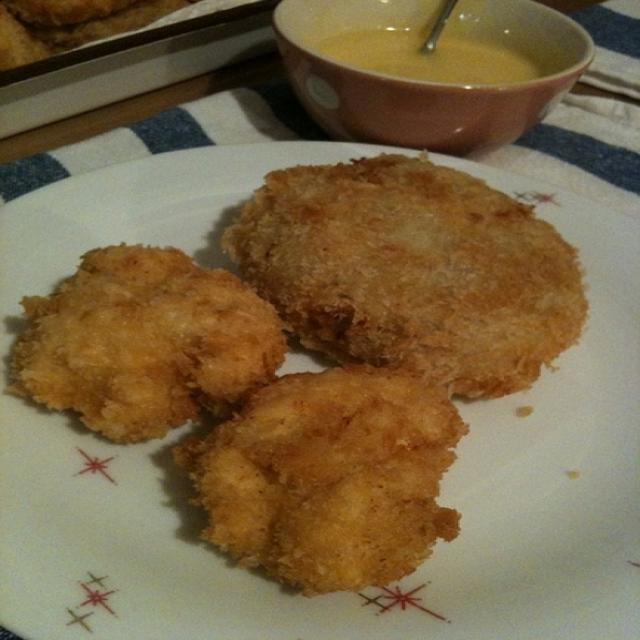Chicken nugget: (24, 153, 610, 608)
